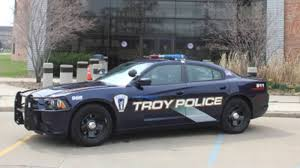special: (13, 53, 269, 148)
